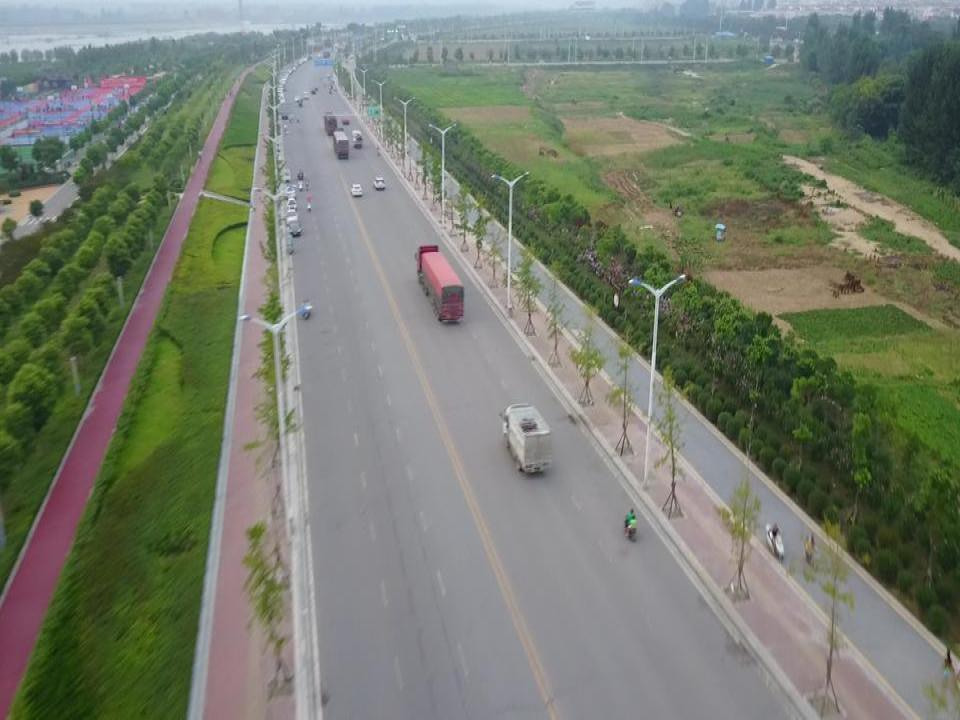car: (285, 209, 299, 226), (287, 220, 301, 236), (350, 183, 363, 196), (372, 176, 385, 189), (285, 197, 297, 210), (285, 186, 296, 198), (340, 115, 350, 124), (293, 94, 300, 103)
truck: (414, 243, 465, 322), (499, 401, 552, 475), (331, 128, 349, 159), (323, 112, 337, 135), (351, 129, 363, 148)
van: (303, 92, 308, 99)
